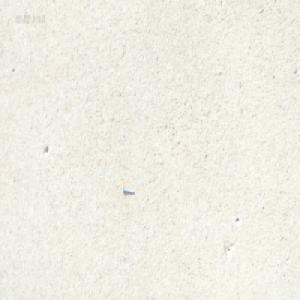Nail: (120, 185, 135, 194)
